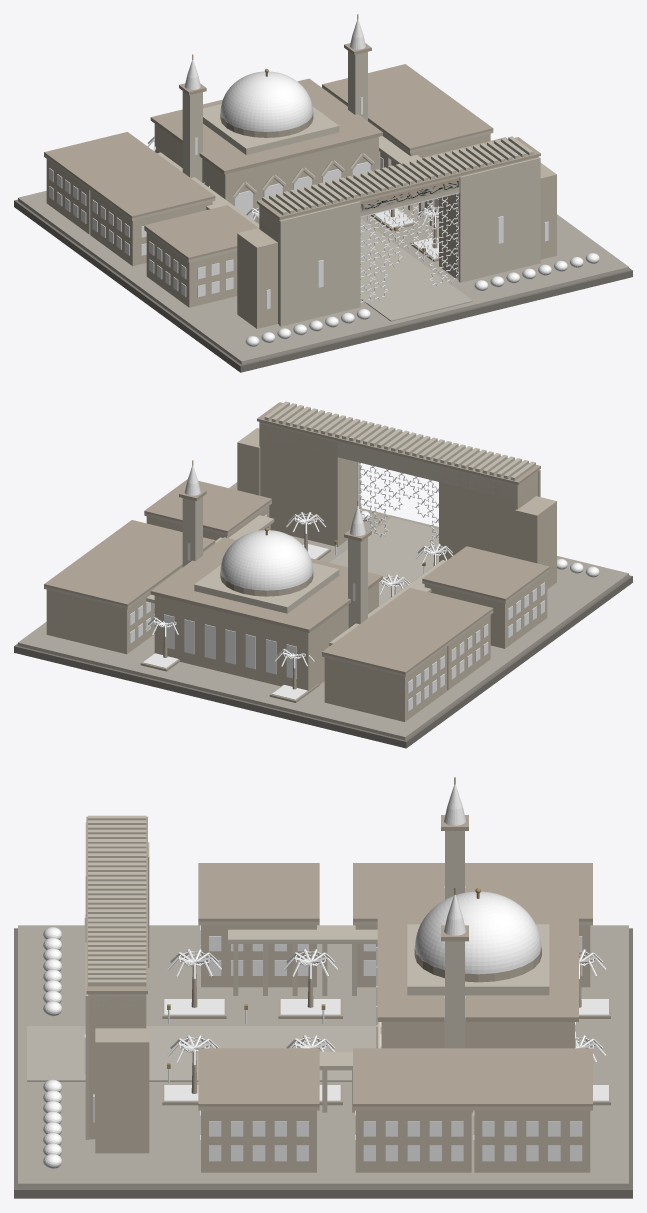
Rendered from jamiah-imam.parts.glb.
3 views of the same model, one above another, from view 1: azimuth 30°, elevation 25°; view 2: azimuth 150°, elevation 25°; view 3: azimuth 270°, elevation 25° (orthographic). The views are drawn at different scales.
Parts seen in each view (by area): view 1: stone, slate, glass, bronze, shrub, sign, lawn; view 2: stone, glass, slate, bronze, foliage, lawn; view 3: stone, glass, slate, lawn, shrub, foliage, bronze.
Part boxes in pixels (bbox=[...]): stone: bbox=[14, 14, 632, 372]; slate: bbox=[187, 19, 363, 131]; glass: bbox=[49, 157, 438, 297]; bronze: bbox=[184, 36, 548, 309]; shrub: bbox=[245, 253, 599, 346]; sign: bbox=[360, 178, 459, 212]; lawn: bbox=[373, 208, 438, 258]; stone: bbox=[14, 401, 632, 748]; glass: bbox=[130, 514, 544, 711]; slate: bbox=[187, 466, 363, 590]; bronze: bbox=[184, 462, 438, 600]; foliage: bbox=[145, 512, 453, 668]; lawn: bbox=[142, 544, 328, 699]; stone: bbox=[14, 777, 632, 1198]; glass: bbox=[200, 925, 582, 1161]; slate: bbox=[415, 784, 541, 973]; lawn: bbox=[164, 999, 608, 1101]; shrub: bbox=[43, 927, 62, 1168]; foliage: bbox=[167, 949, 605, 1065]; bronze: bbox=[84, 807, 465, 1122].
Size of the model in its own units: 24 by 10.07 by 24.
Materials: 8 (1 with a texture image).
